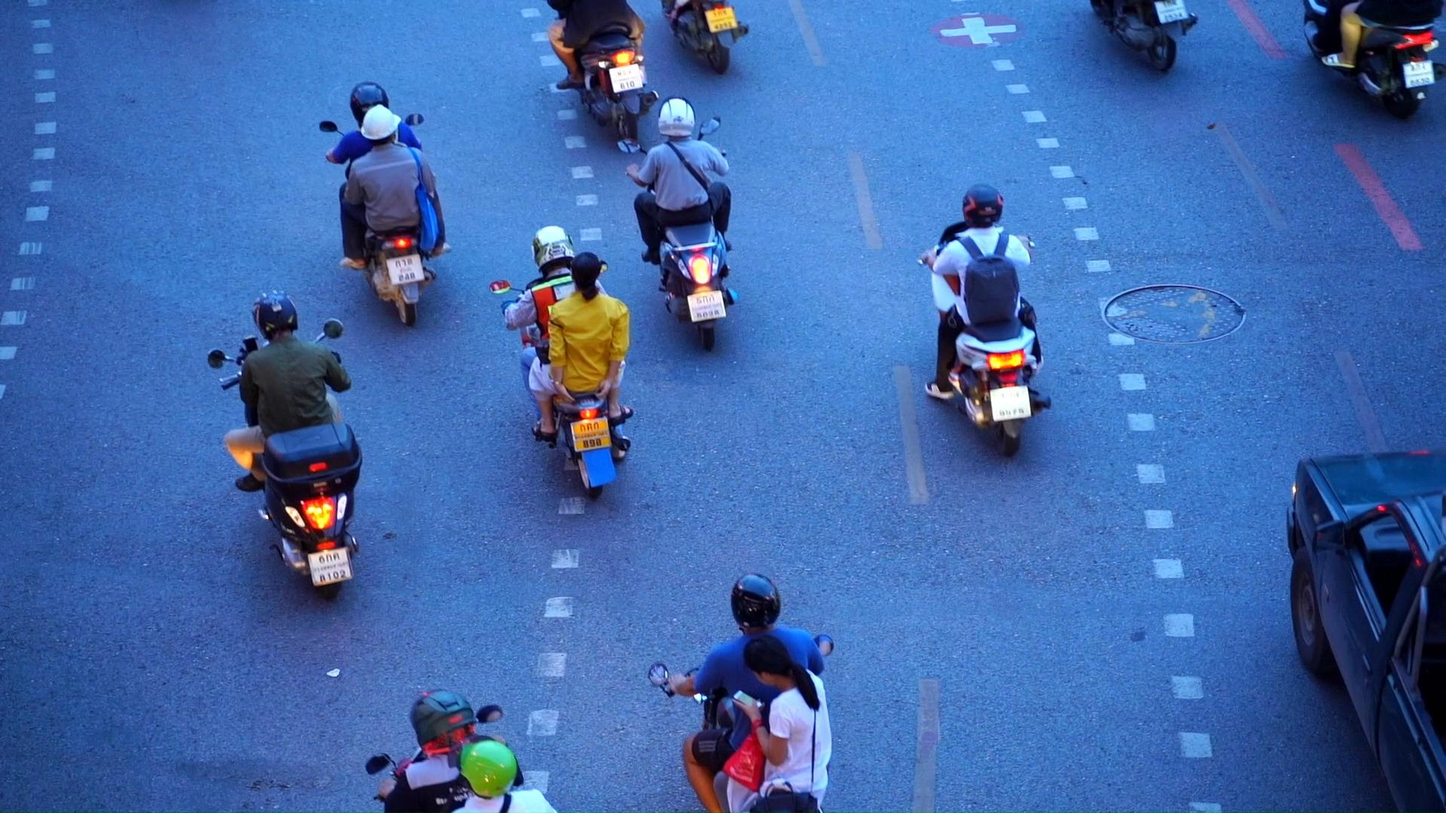driver: (206, 289, 365, 602), (648, 572, 834, 813), (490, 226, 634, 501), (916, 183, 1050, 457), (317, 82, 451, 325), (615, 94, 739, 353), (363, 687, 561, 813), (1301, 1, 1446, 119), (546, 1, 659, 141)
helmet: (447, 734, 519, 801), (409, 688, 474, 759), (731, 572, 781, 630), (251, 289, 298, 340), (531, 226, 574, 275), (350, 81, 389, 129), (962, 184, 1003, 228), (362, 104, 402, 148), (658, 94, 696, 138)
no-helmet: (743, 634, 819, 692), (570, 252, 602, 302)
